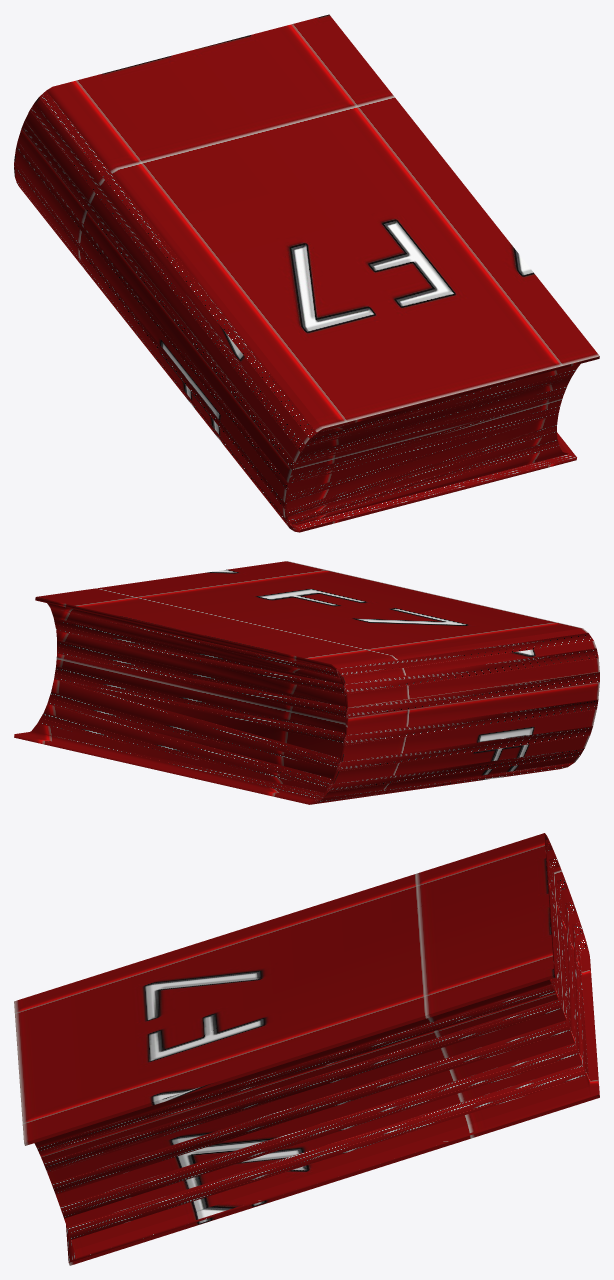
The model's file is KnjigaSeven.fbx.
The picture shows the model from 3 angles, top to bottom: view 1: azimuth 30°, elevation 25°; view 2: azimuth 150°, elevation 25°; view 3: azimuth 270°, elevation 25°; orthographic projection. The views are drawn at different scales.
Visible parts, largest first — view 1: book; view 2: book; view 3: book.
Boxes of the visible parts, box(x1,y1,x2,y2) form: book: box(14, 14, 599, 532); book: box(14, 561, 599, 804); book: box(14, 833, 599, 1265).
Bounding box in the file's own units: 10.86 × 8.97 × 16.71.
1 material, 1 textured.
